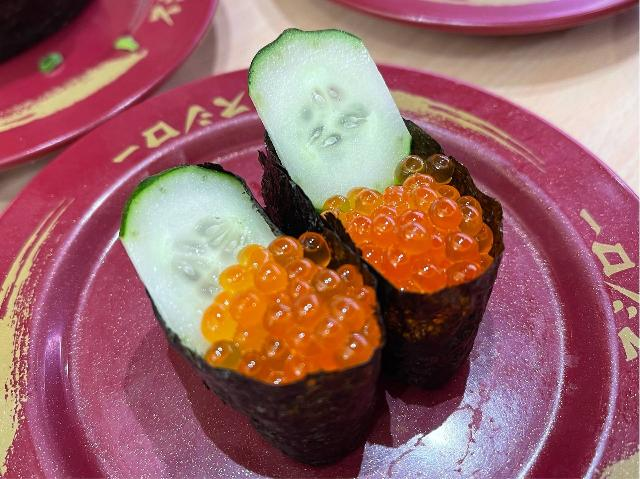janred: (7, 102, 613, 473), (0, 0, 201, 112), (327, 1, 639, 56)
